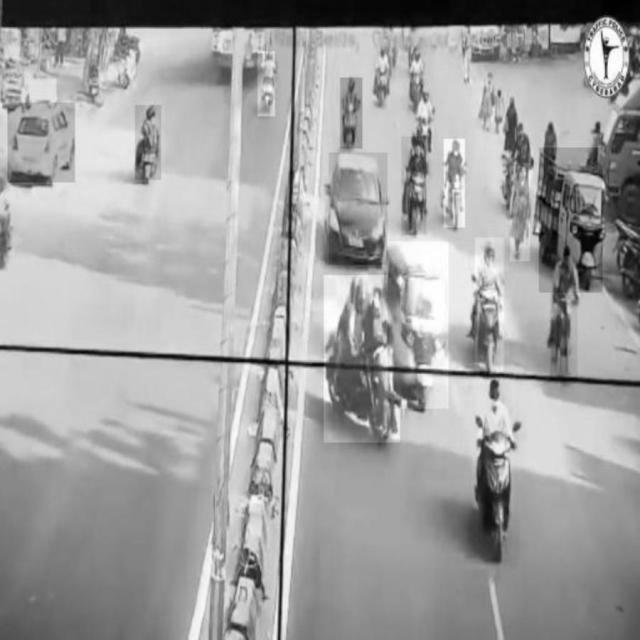accident: (324, 275, 400, 442)
person: (510, 167, 530, 261)
vehicle: (388, 242, 449, 409), (539, 147, 603, 291), (476, 375, 514, 559), (329, 153, 387, 265), (9, 102, 76, 183), (475, 238, 503, 372), (551, 250, 578, 380), (402, 137, 427, 235), (135, 104, 161, 180), (444, 140, 464, 228), (341, 78, 363, 149), (258, 52, 275, 116)
